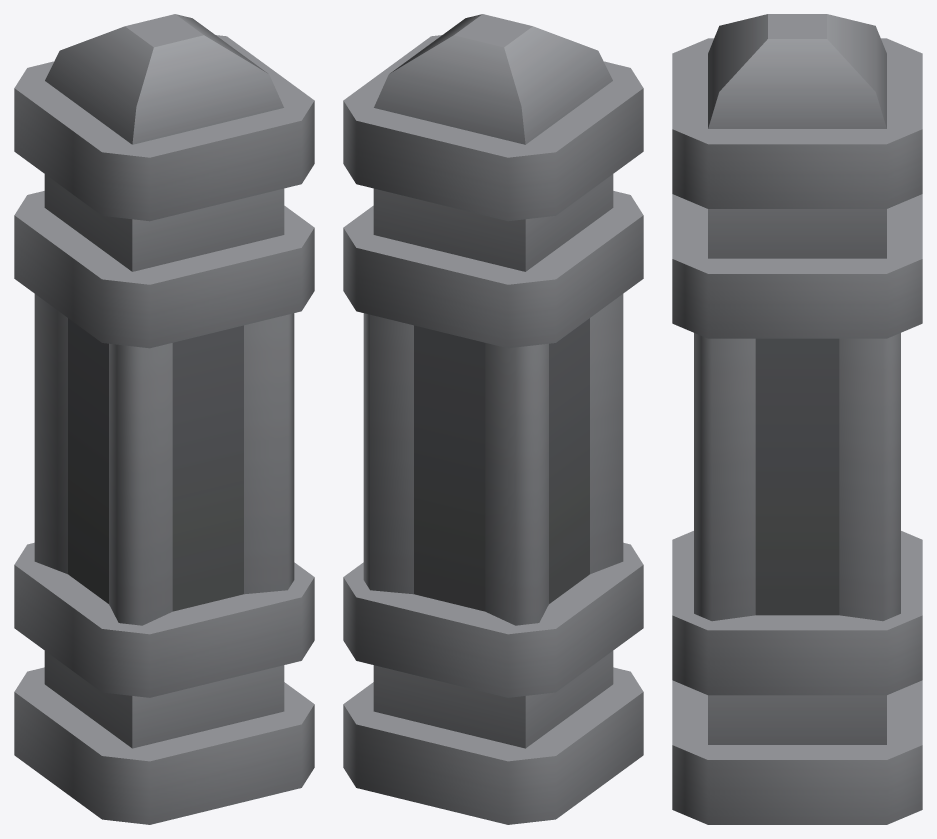
The model's file is pillar-square.glb.
The picture shows the model from 3 angles, left to right: view 1: azimuth 30°, elevation 25°; view 2: azimuth 150°, elevation 25°; view 3: azimuth 270°, elevation 25°; orthographic projection. The views are drawn at different scales.
Parts seen in each view (by area): view 1: pillar-square; view 2: pillar-square; view 3: pillar-square.
Boxes of the visible parts, box(x1,y1,x2,y2) form: pillar-square: box(14, 14, 314, 824); pillar-square: box(343, 14, 643, 824); pillar-square: box(672, 14, 922, 824).
Bounding box in the file's own units: 0.84 × 2.76 × 0.84.
1 material, 1 textured.
